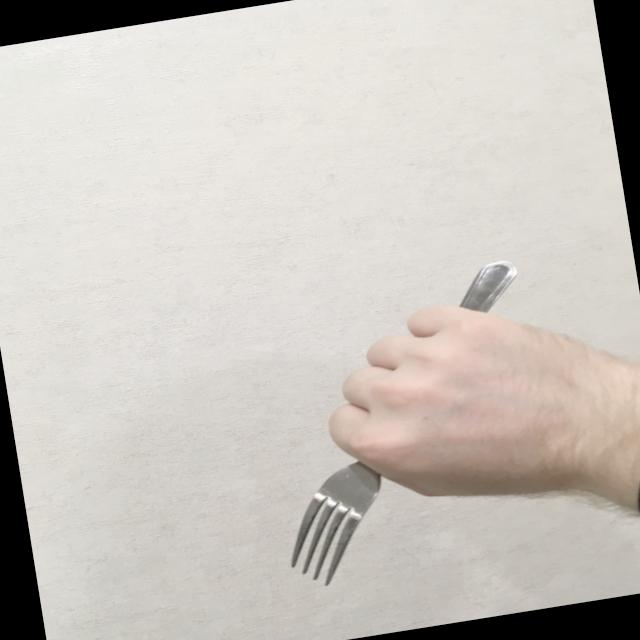fork: (248, 259, 560, 591)
